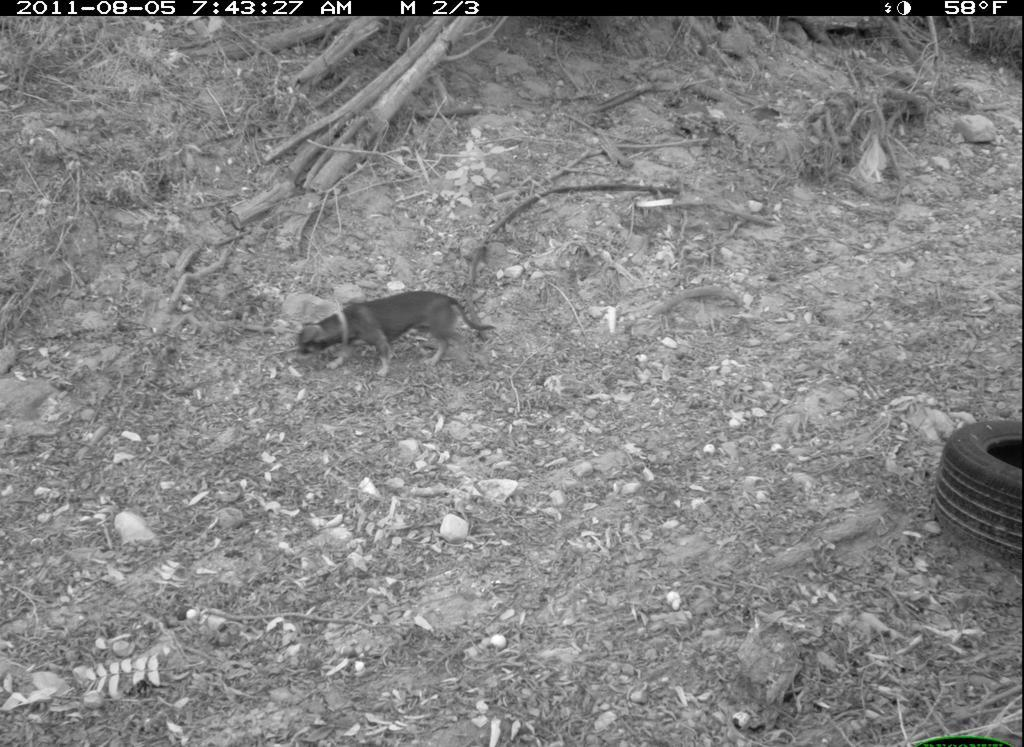dog: (287, 291, 514, 393)
